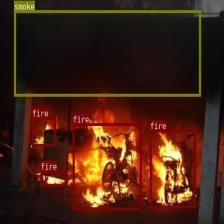fire: (72, 122, 142, 210), (149, 129, 195, 208), (32, 116, 56, 146), (40, 170, 66, 186)
smoke: (14, 10, 201, 96)
